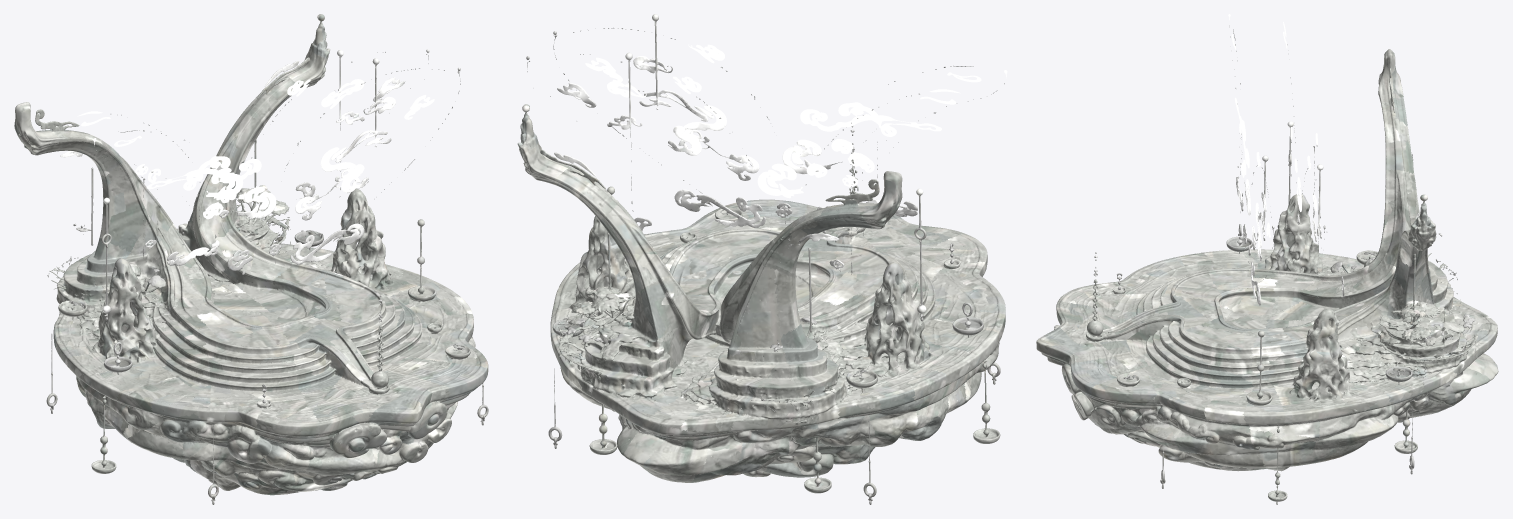
File: house11.glb
3 renders of one model, left to right at view 1: azimuth 30°, elevation 25°; view 2: azimuth 150°, elevation 25°; view 3: azimuth 270°, elevation 25°, orthographic. The views are drawn at different scales.
Size of the model in its own units: 0.8457 by 0.8148 by 0.9441.
Materials: 3 (3 with a texture image).
